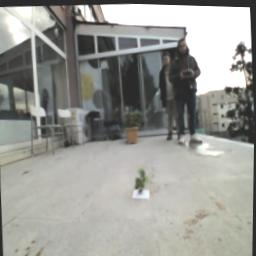herb: (133, 167, 150, 195)
